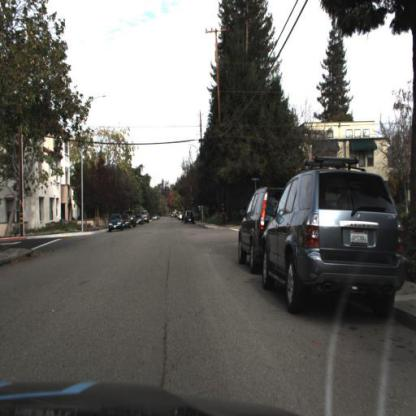car: (264, 163, 408, 316), (238, 179, 288, 280), (238, 184, 269, 283), (106, 212, 125, 238), (122, 210, 132, 235)
